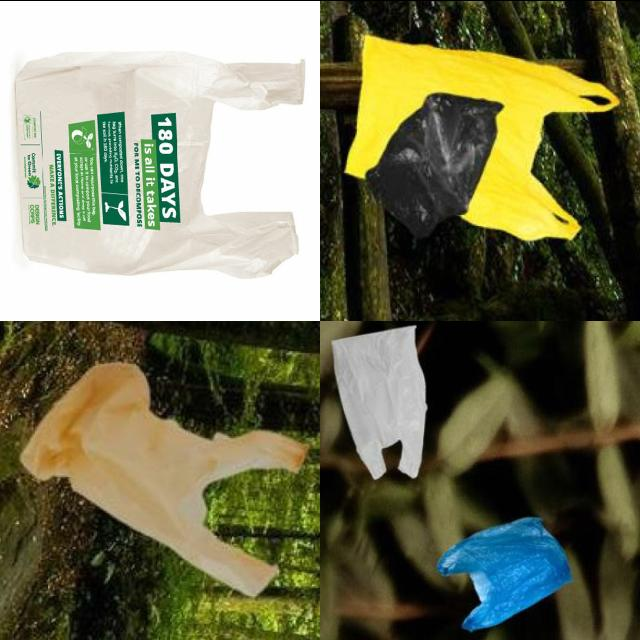plastik: (21, 362, 306, 595), (16, 51, 305, 276), (346, 35, 619, 240), (367, 92, 502, 236), (438, 516, 571, 630), (332, 325, 428, 479)
